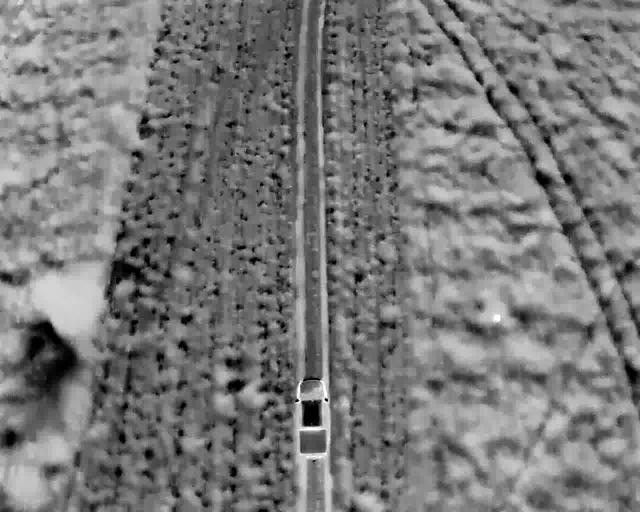car: (293, 379, 329, 459)
